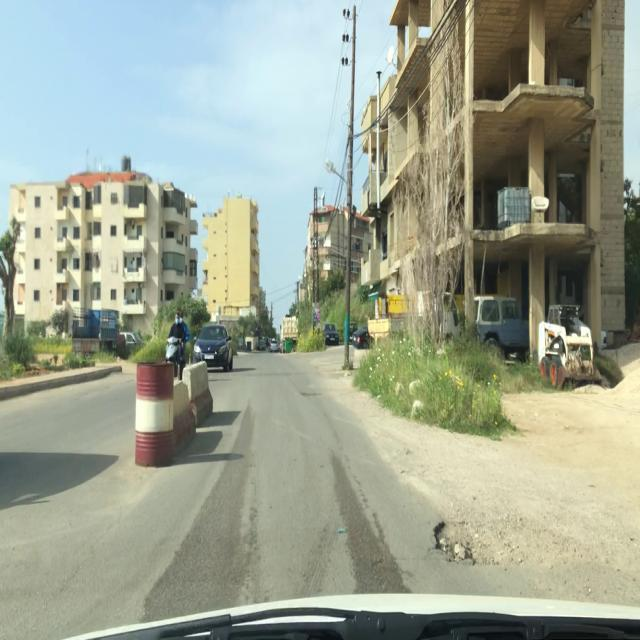pothole: (433, 517, 498, 569)
